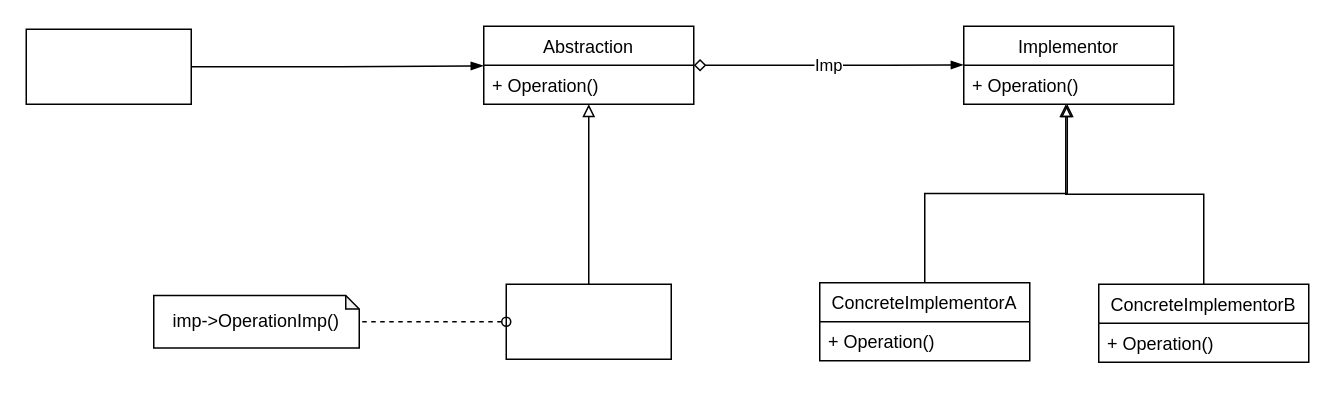
Image size: 1335x393. Some labels were removed from this diagram. Each missing label, with the centre of its shape:
"Client" belongs at (x=108, y=66).
"RefinedAbstraction" belongs at (x=588, y=321).
